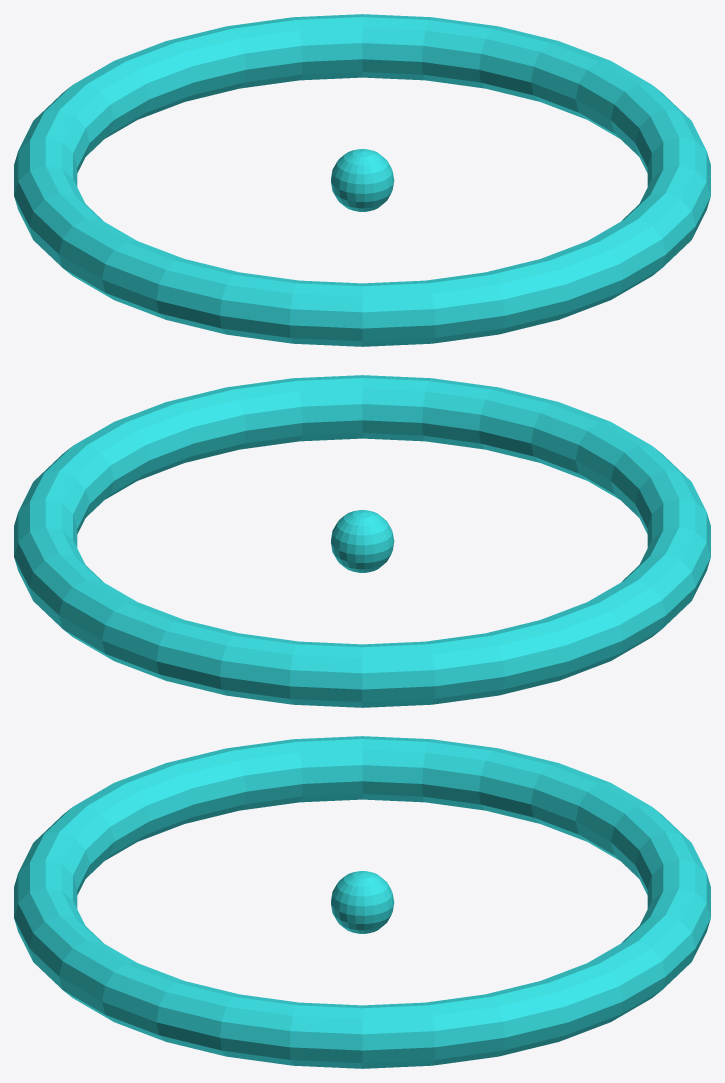
The model's file is dot circle.fbx.
3 views of the same model, one above another, from view 1: azimuth 30°, elevation 25°; view 2: azimuth 150°, elevation 25°; view 3: azimuth 270°, elevation 25° (orthographic).
Parts seen in each view (by area): view 1: Sphere; view 2: Sphere; view 3: Sphere.
Part boxes in pixels (<box>): Sphere: <box>14,14,710,346</box>; Sphere: <box>14,375,710,707</box>; Sphere: <box>14,736,710,1068</box>.
Size of the model in its own units: 220 by 20 by 219.
